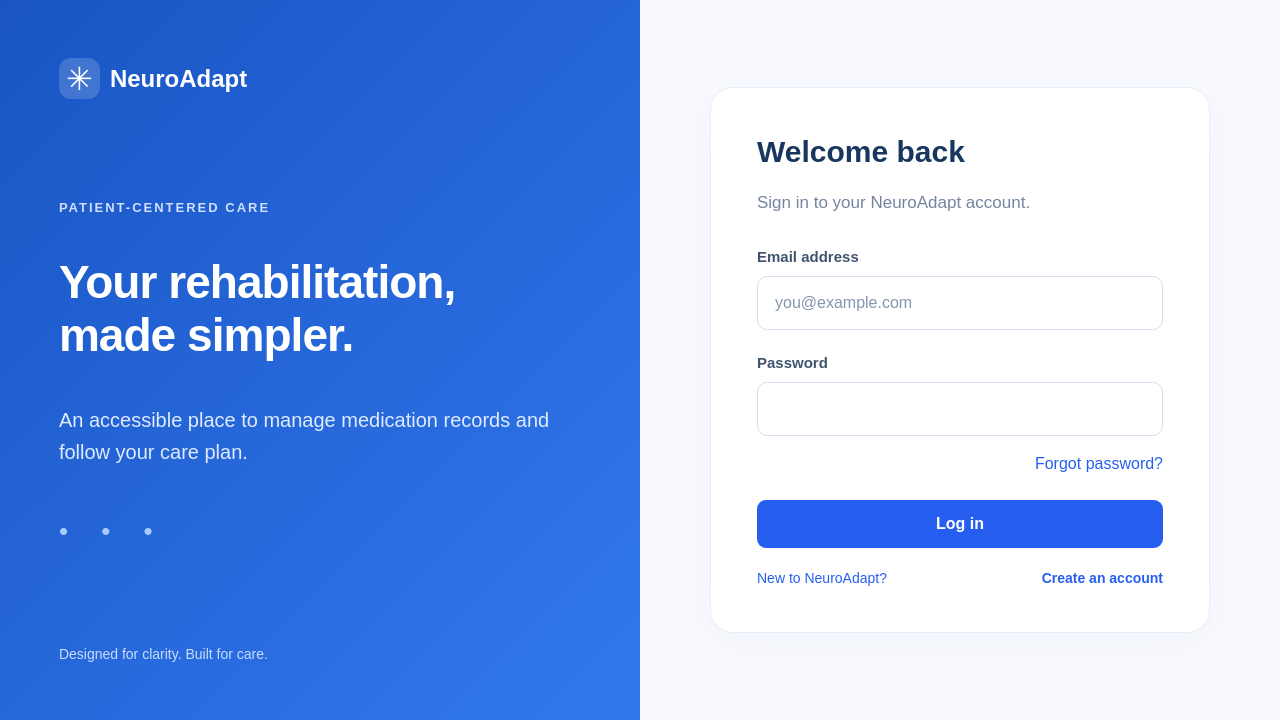
authentication and routing › renders login and navigates to registration
Check: the heading "Welcome back" is shown, box [757,135,965,168]
Click the link "Create an account" at (1102, 578), box [1042,570,1163,586]
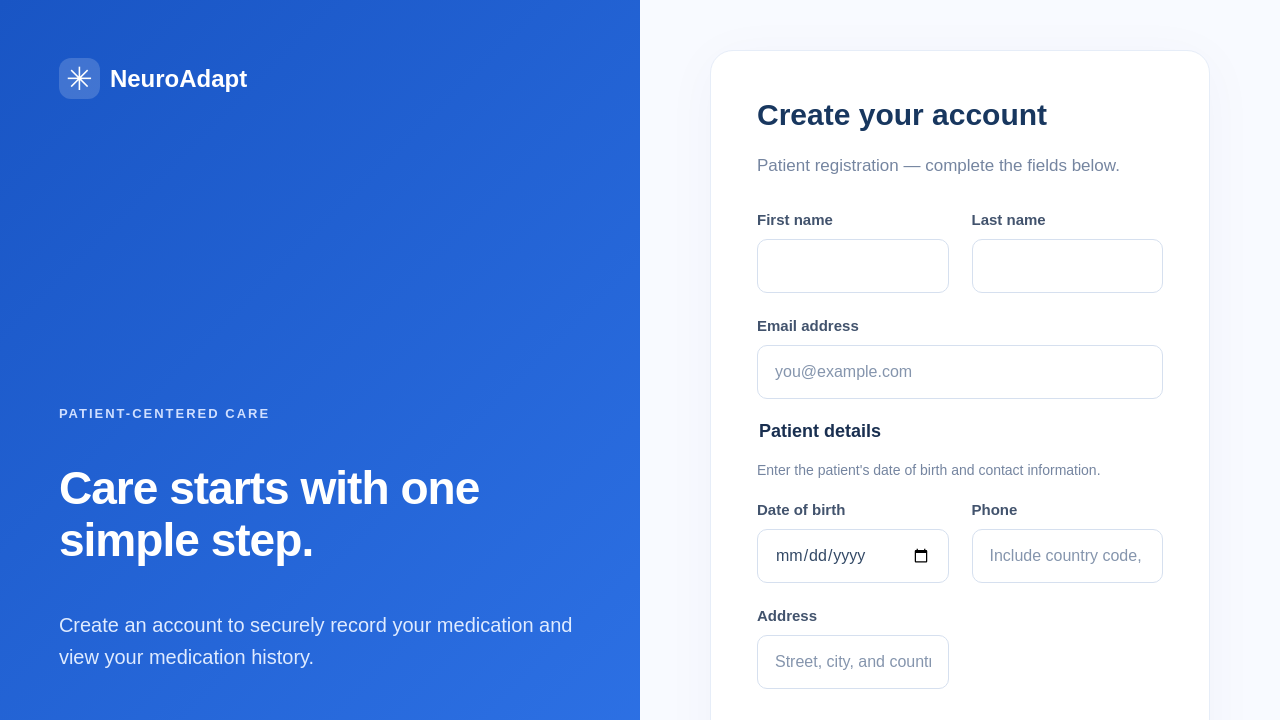
Check: the field labelled "First name" is shown, box [757,239,948,293]
